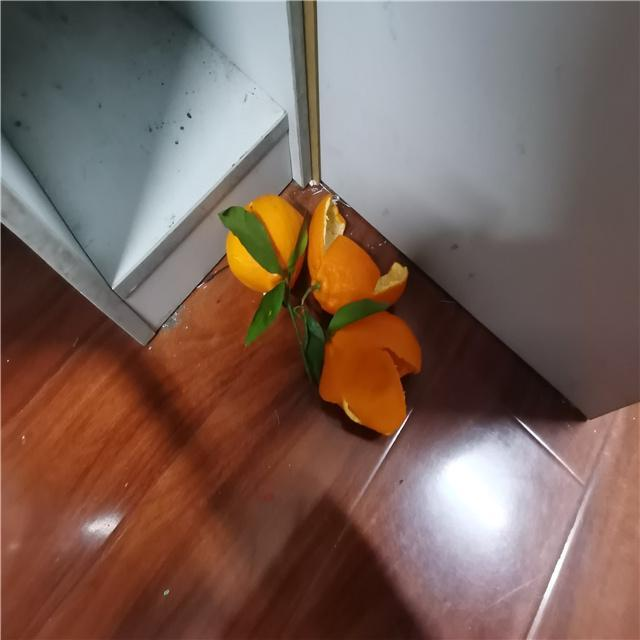orange-peel: (222, 190, 423, 436), (317, 310, 422, 436), (224, 193, 305, 293)
